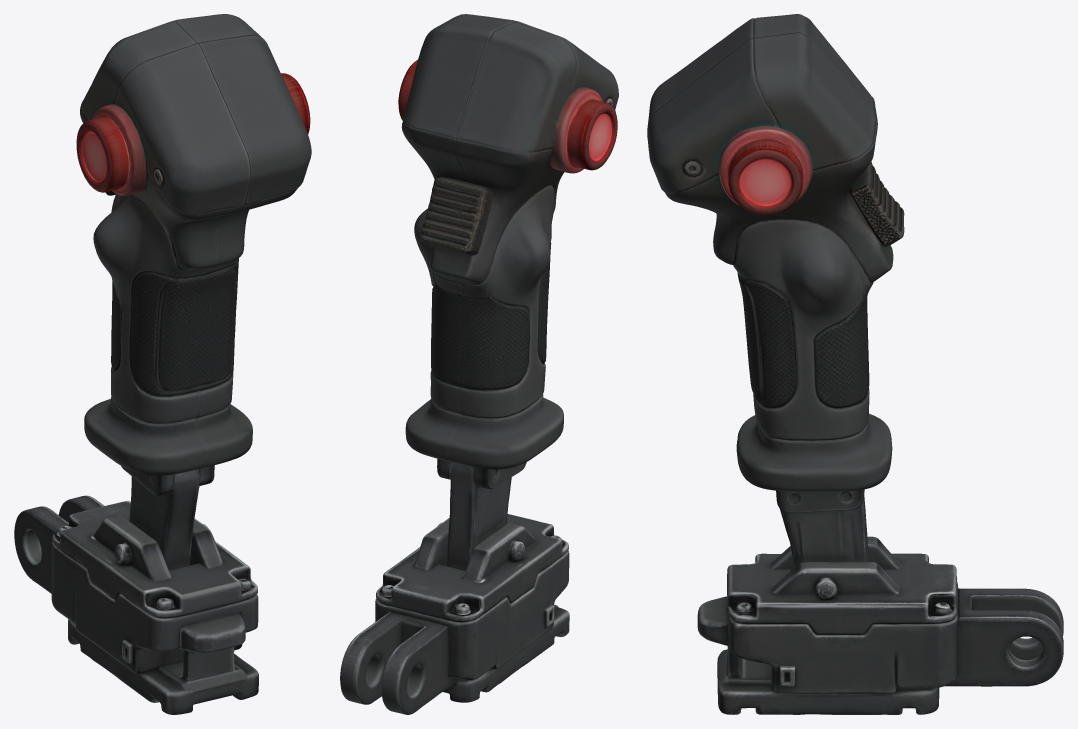
File: throttle_stick.glb
3 renders of one model, left to right at view 1: azimuth 30°, elevation 25°; view 2: azimuth 150°, elevation 25°; view 3: azimuth 270°, elevation 25°, orthographic. The views are drawn at different scales.
Parts seen in each view (by area): view 1: tripo_node_b10c4d4f-921e-4de3-a099-38c009151aa9; view 2: tripo_node_b10c4d4f-921e-4de3-a099-38c009151aa9; view 3: tripo_node_b10c4d4f-921e-4de3-a099-38c009151aa9.
Part boxes in pixels (x1,y1,x2,y2): tripo_node_b10c4d4f-921e-4de3-a099-38c009151aa9: (14, 14, 311, 714); tripo_node_b10c4d4f-921e-4de3-a099-38c009151aa9: (340, 14, 618, 714); tripo_node_b10c4d4f-921e-4de3-a099-38c009151aa9: (647, 14, 1063, 714).
Bounding box in the file's own units: 0.3203 × 1 × 0.5721.
Materials: 1 (1 with a texture image).
